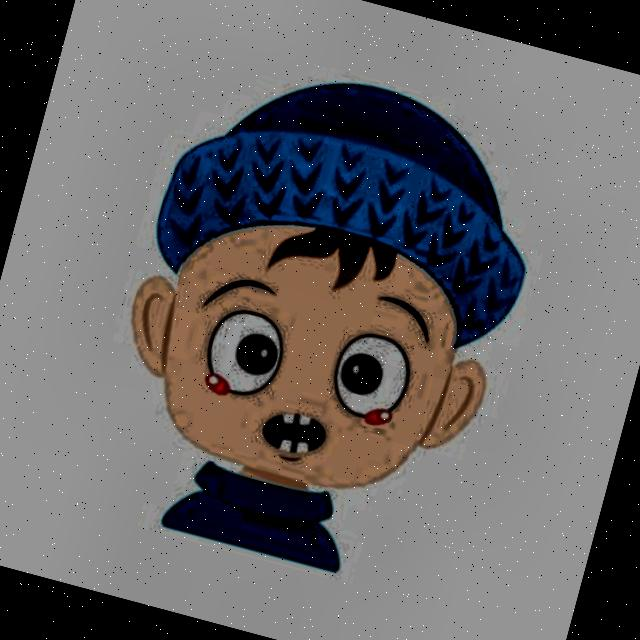surprised: (82, 171, 534, 558)
